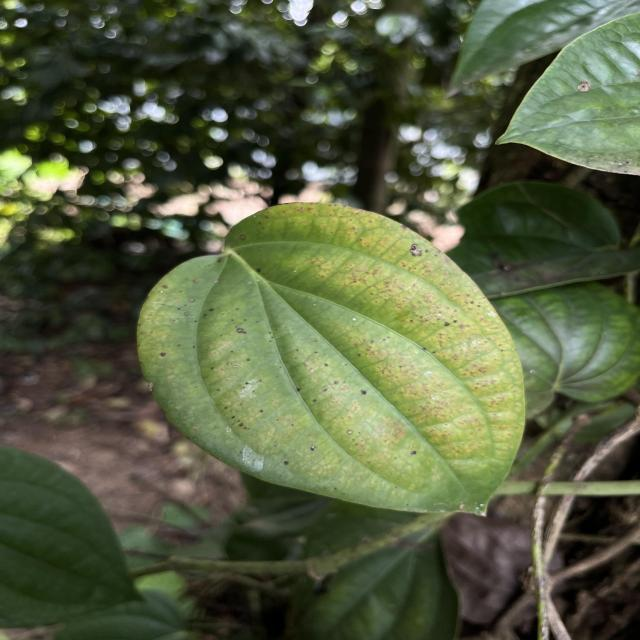Piper nigrum: (133, 200, 528, 520)
